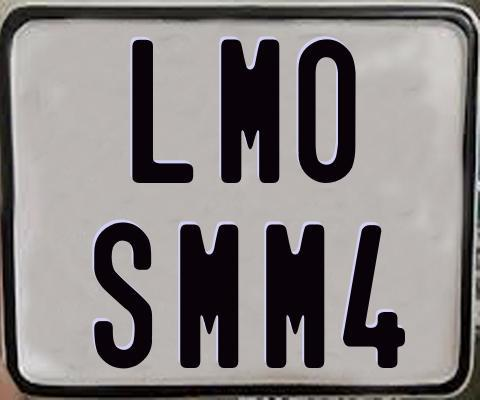0: (297, 39, 361, 184)
4: (340, 223, 404, 372)
L: (130, 40, 196, 189)
M: (219, 38, 284, 188), (263, 221, 328, 367), (179, 224, 238, 374)
S: (93, 219, 153, 372)
